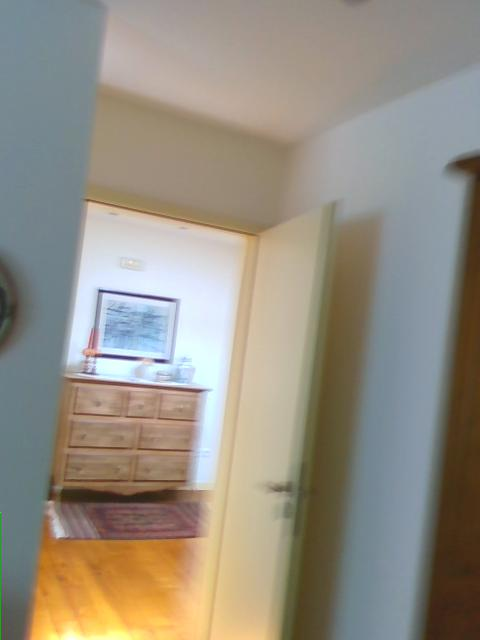open_door: (26, 196, 263, 639)
